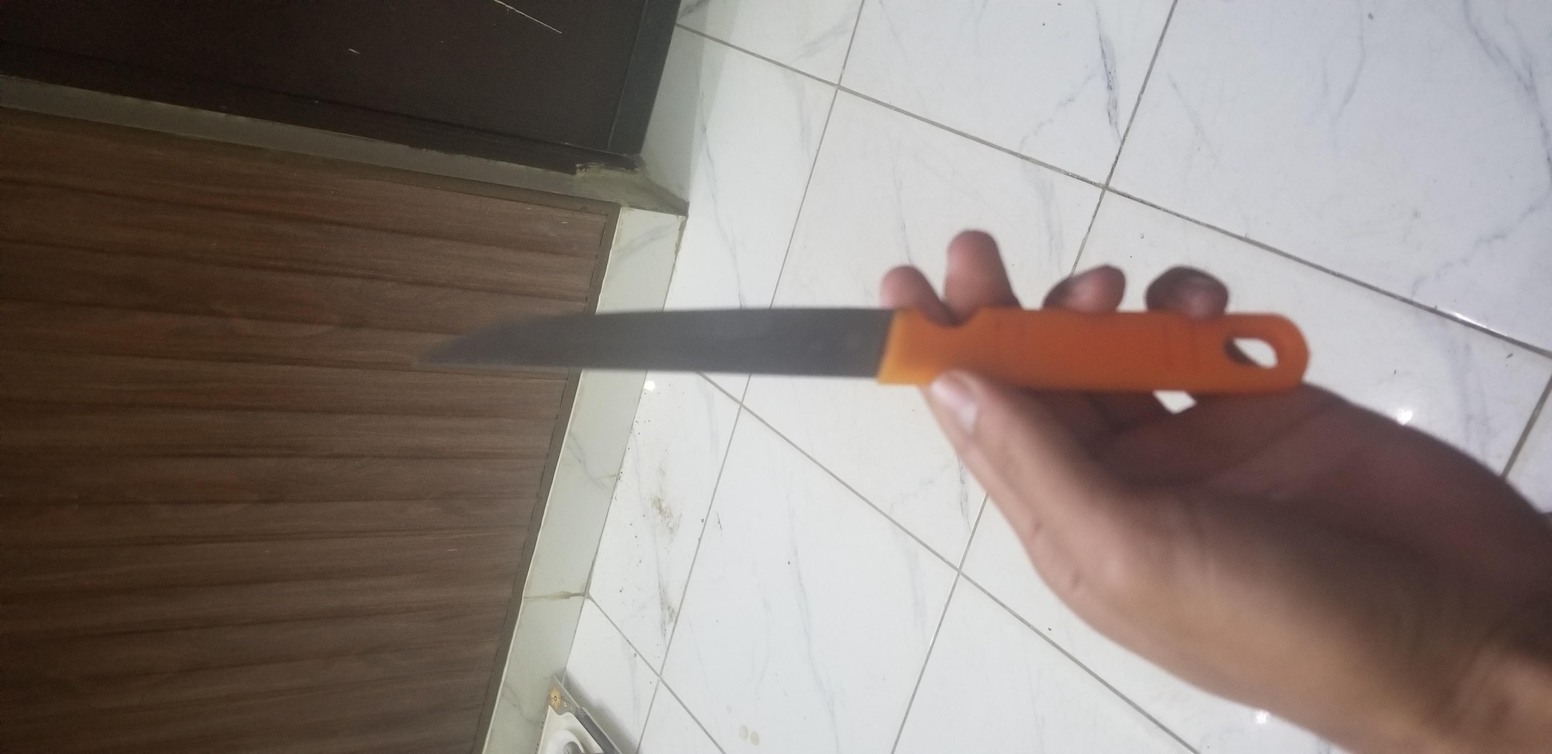knives: (723, 194, 959, 643)
